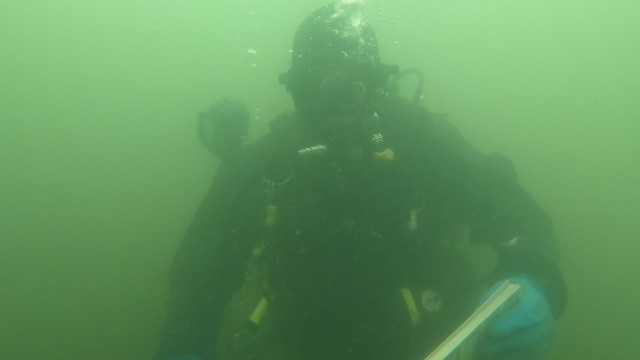Diver: (126, 7, 573, 357)
Hand: (470, 280, 567, 353)
Head: (273, 4, 426, 161)
